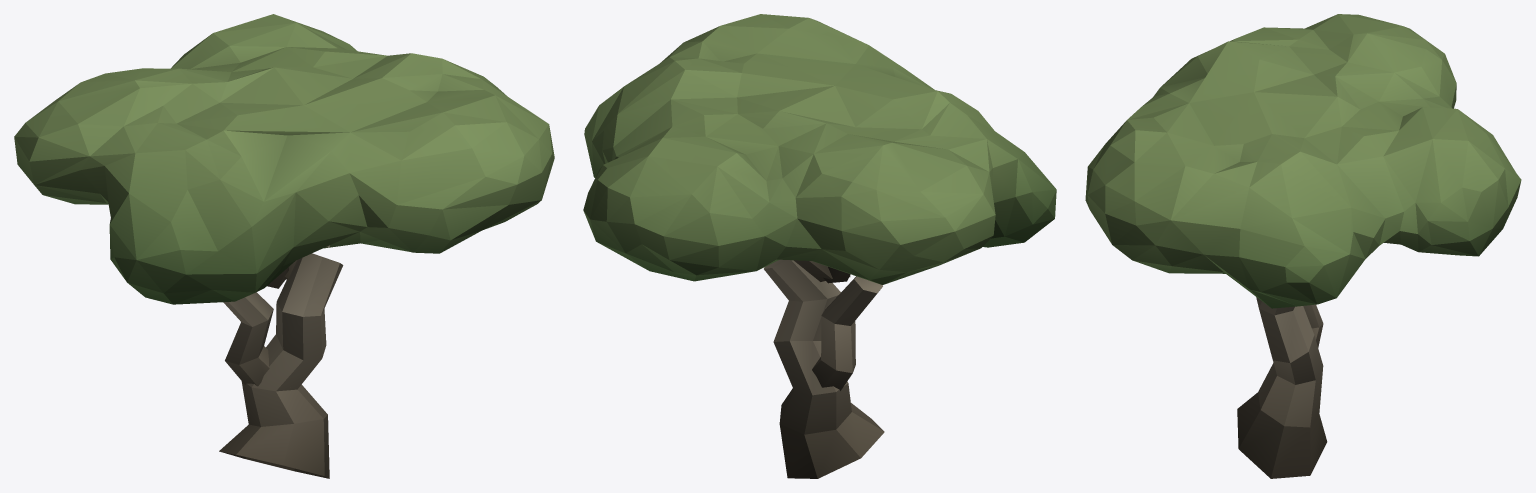
File: oliwka_3.glb
The picture shows the model from 3 angles, left to right: view 1: azimuth 30°, elevation 25°; view 2: azimuth 150°, elevation 25°; view 3: azimuth 270°, elevation 25°; orthographic projection. The views are drawn at different scales.
Parts seen in each view (by area): view 1: oliwka_3; view 2: oliwka_3; view 3: oliwka_3.
Part boxes in pixels (left/top/right/bottom): oliwka_3: left=14, top=14, right=554, bottom=478; oliwka_3: left=583, top=14, right=1056, bottom=478; oliwka_3: left=1085, top=14, right=1521, bottom=478.
Bounding box in the file's own units: 1.63 × 1.38 × 1.42.
